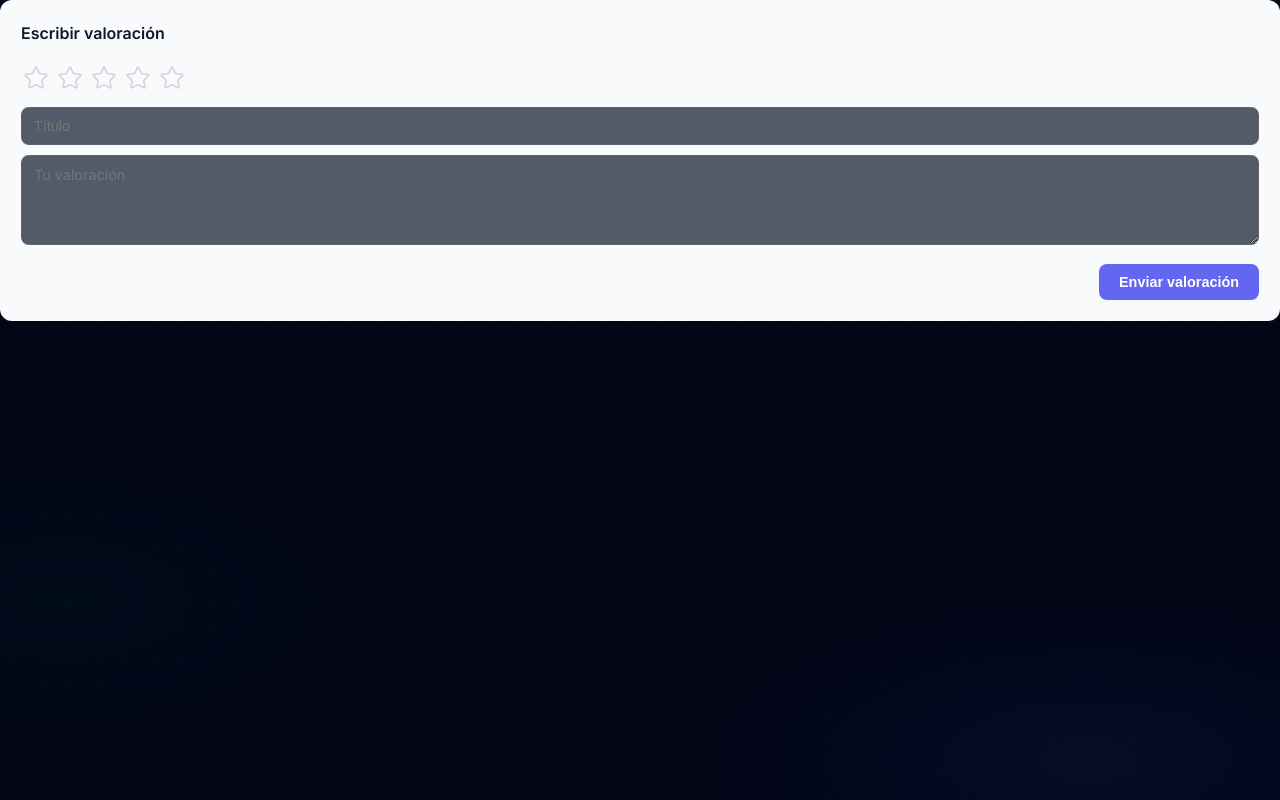
RatingForm › muestra error "Selecciona una puntuación" al enviar sin puntuación
This screenshot has width=1280, height=800.
# Clic en el botón de enviar (el último botón)
Click the button "Enviar valoración" at (1179, 282), box [1099,264,1259,300]
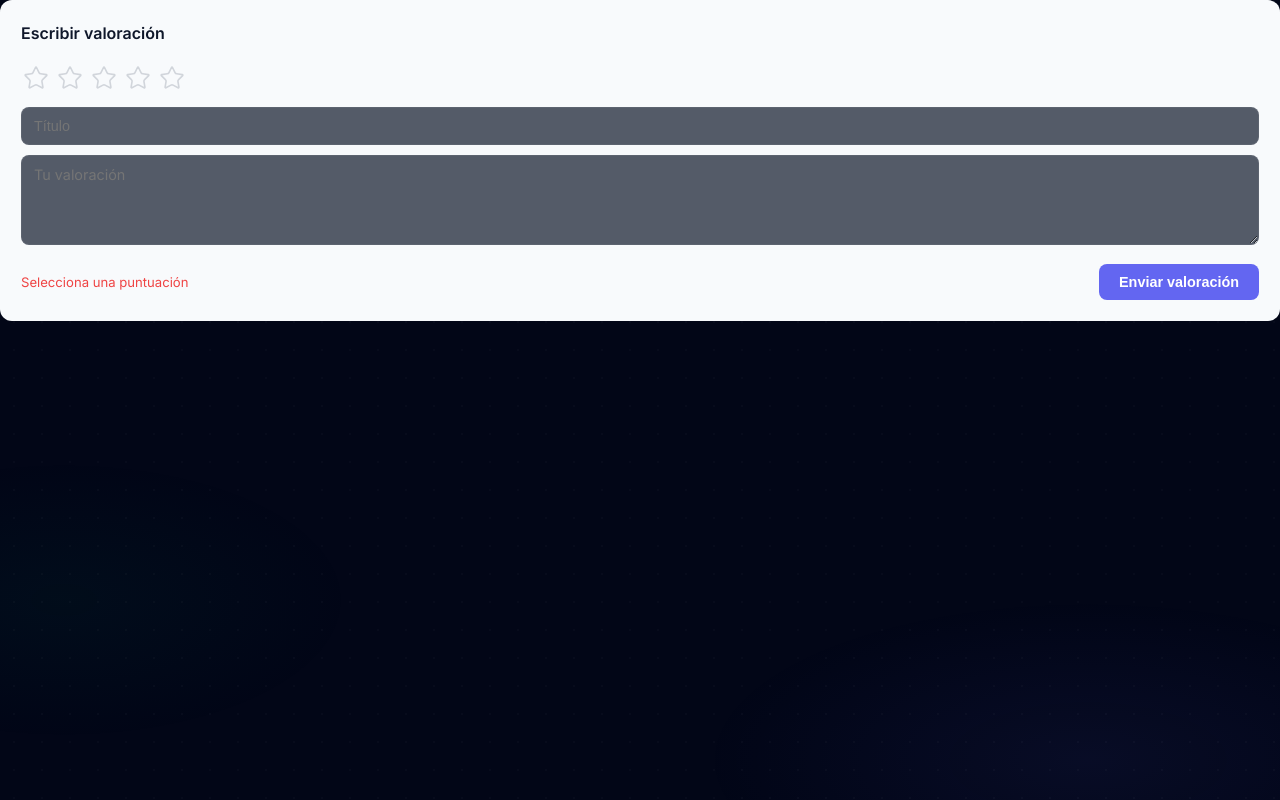
expect the text "Selecciona una puntuación" is shown: met, box [21,272,188,293]
